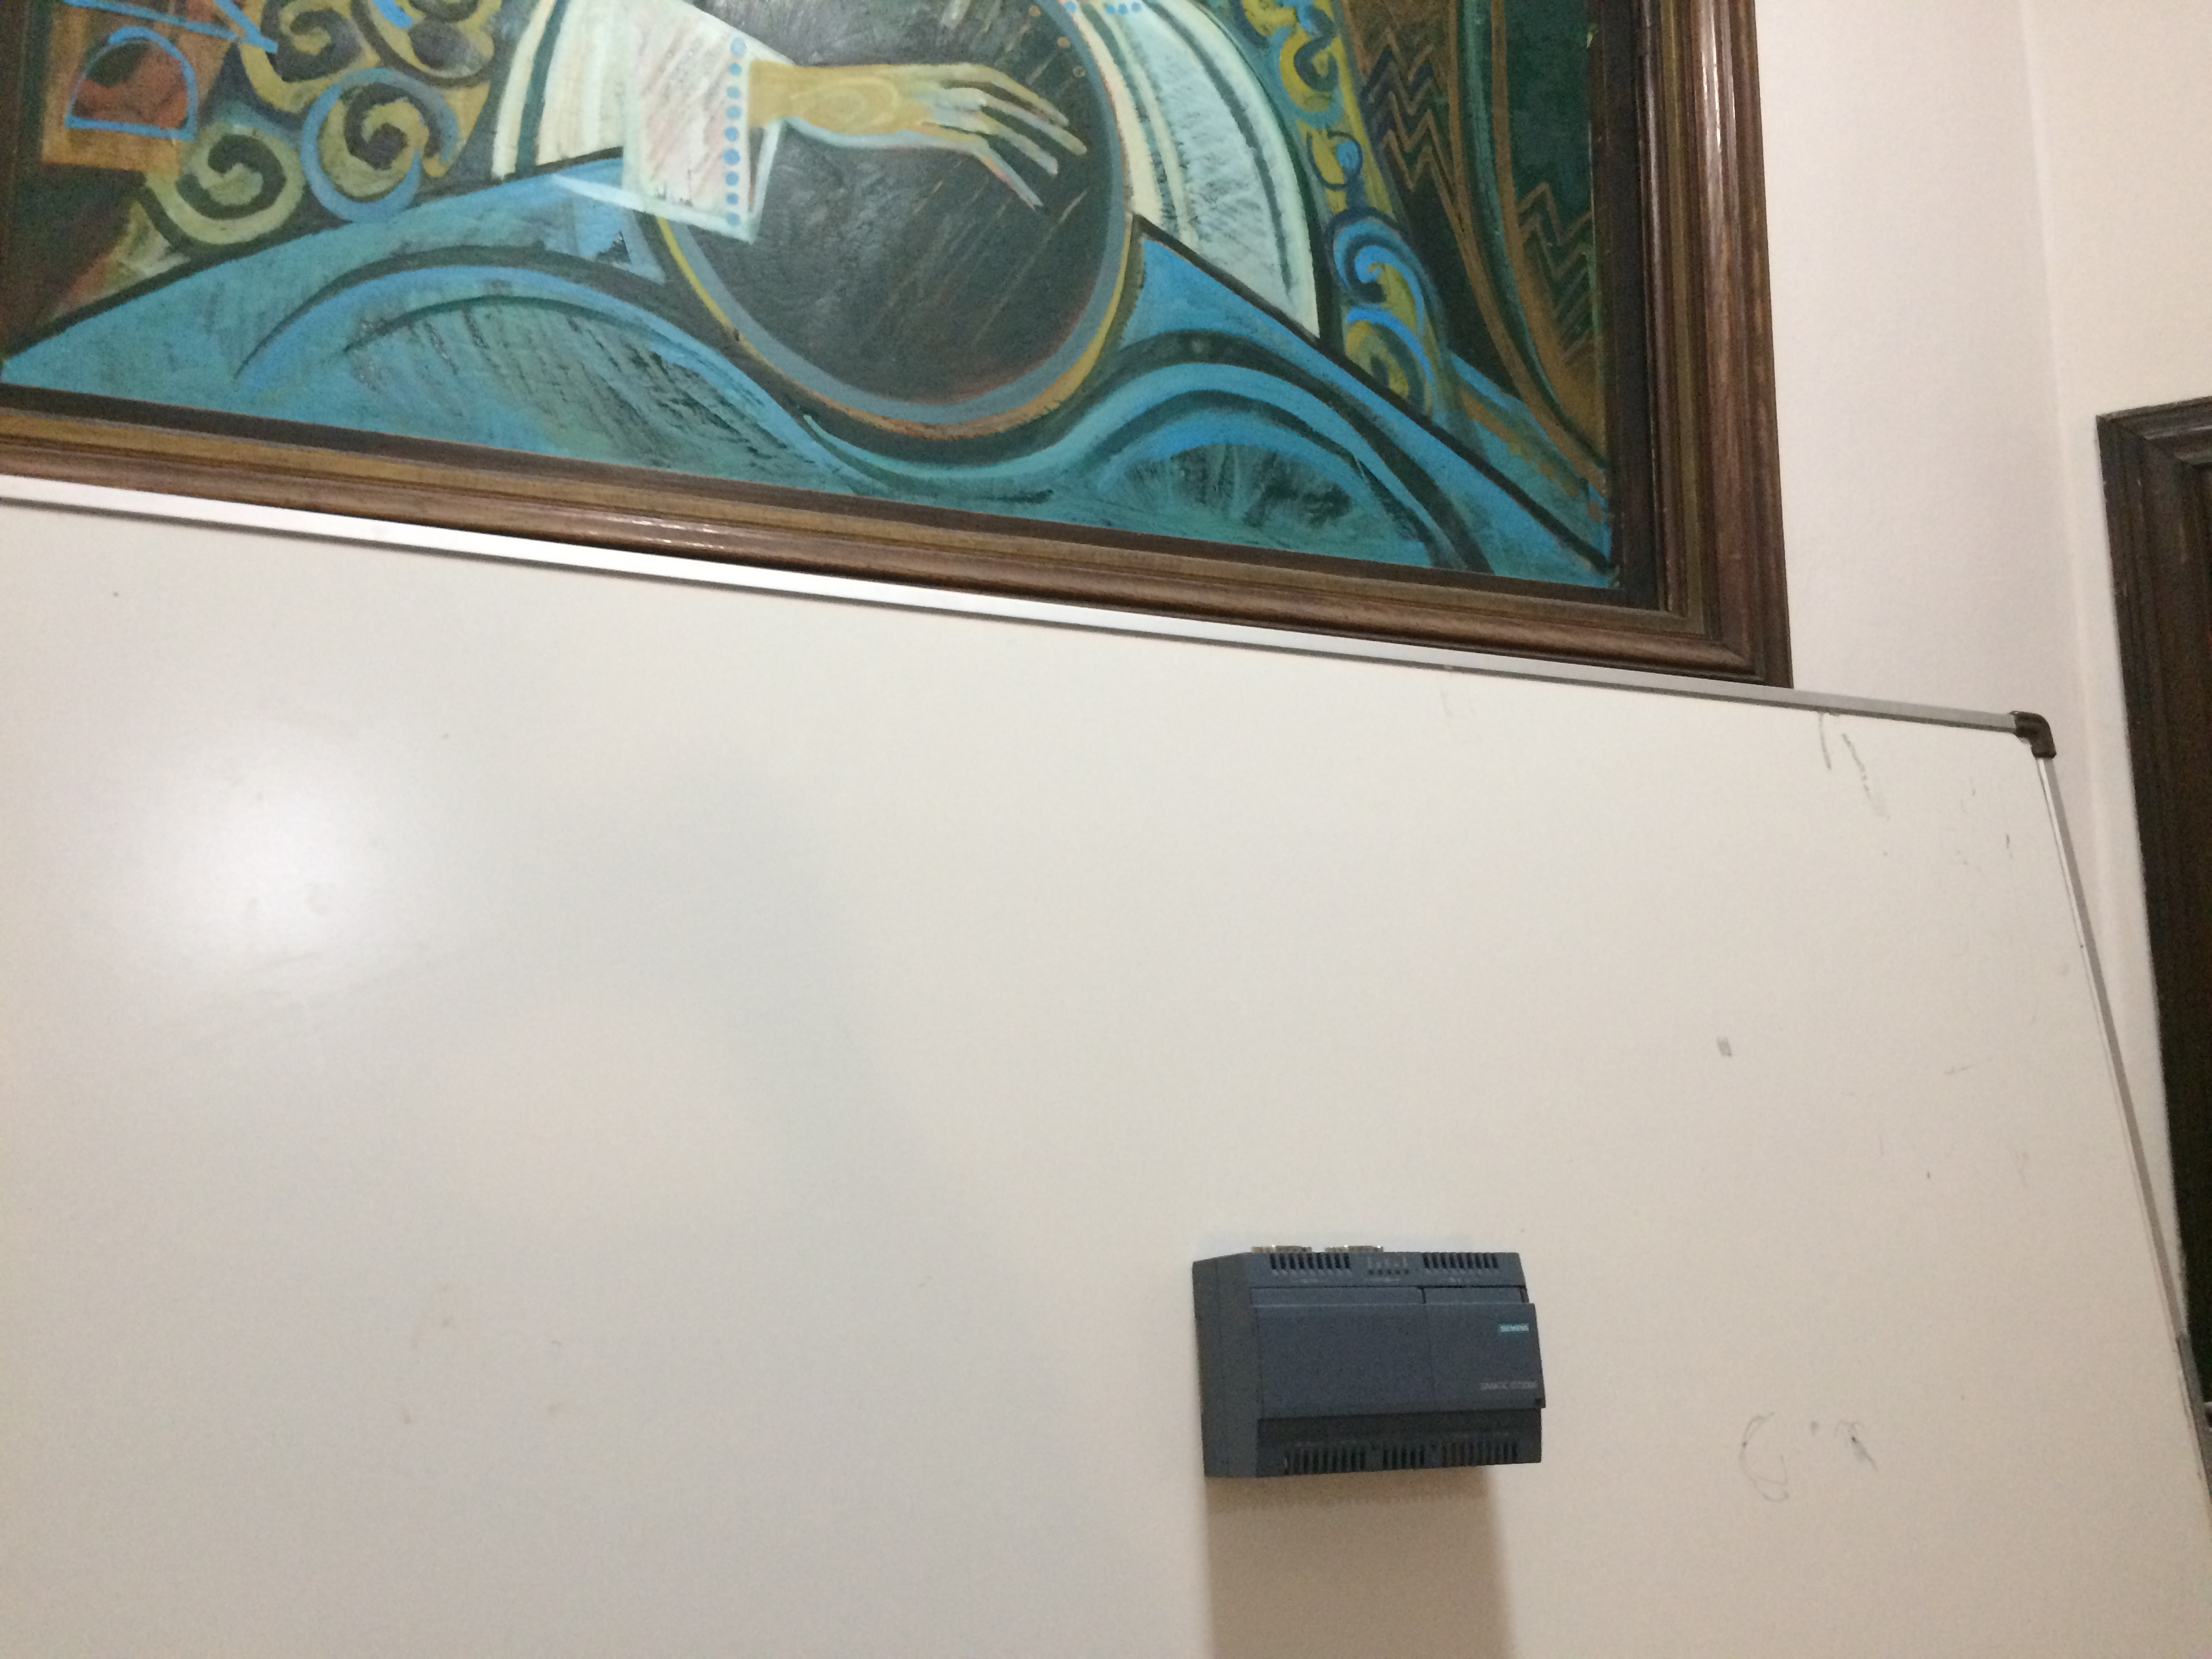iot2000: (1188, 1239, 1552, 1488)
